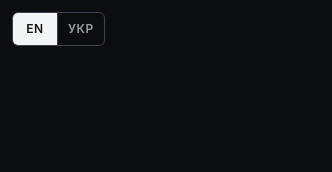
Test: switches the interface and saves the choice on the account
The image size is (332, 172).
Click the button with aria-label "Українська" at (80, 29), box [57,13,104,45]
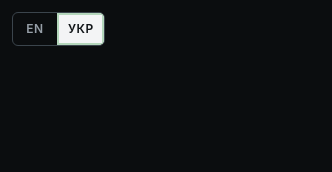
Expected: the element named "Мова інтерфейсу" is shown, [12,12,105,46]
